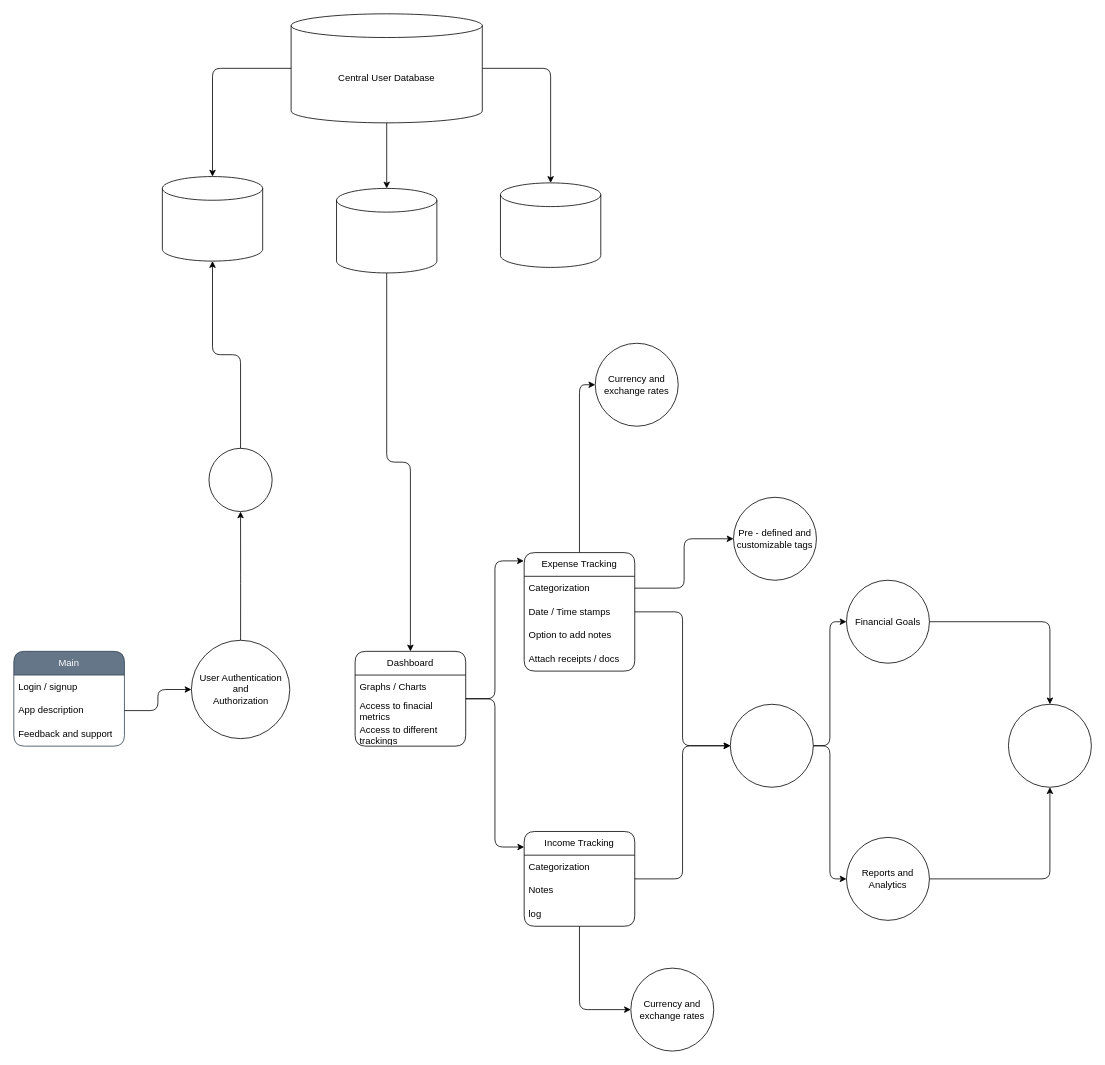
This 1105x1065 diagram has some shape labels left out. Each missing label, with the centre of its shape:
"Budgeting" belongs at (771,745).
"Data Backup and recovery" belongs at (550,224).
"Encryption" belongs at (240,480).
"Notifications (Email / push)" belongs at (1049,745).
"User Accounts" belongs at (212,218).
"User's Financial Metrics" belongs at (386,230).
